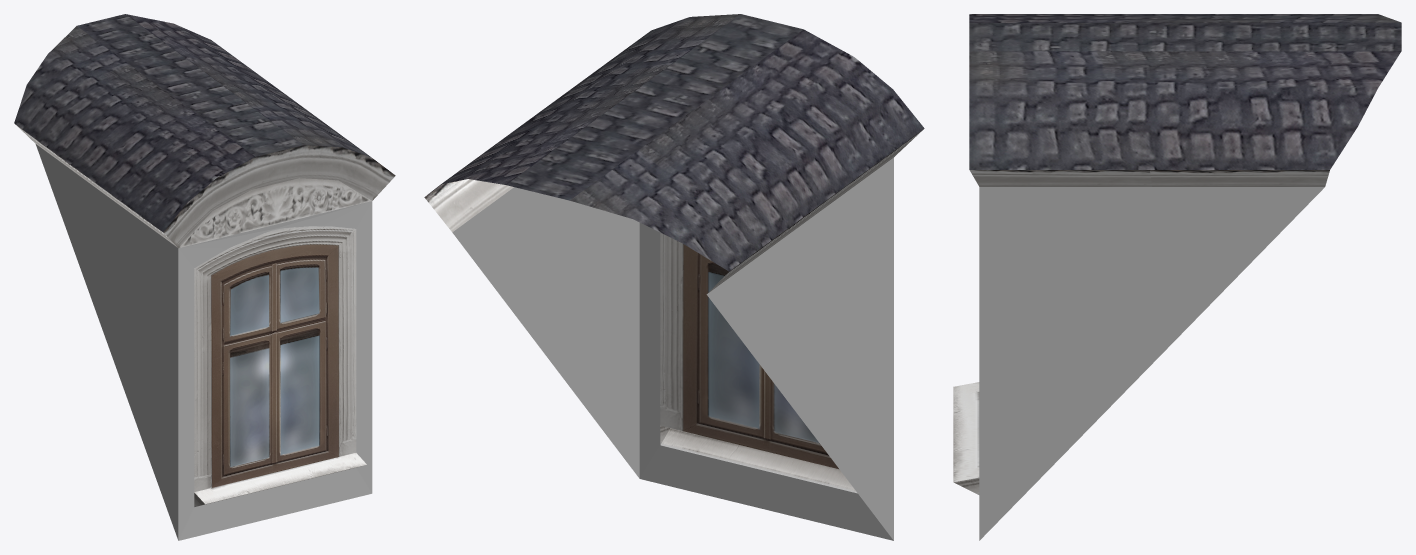
File: RoofWindow2.fbx
3 views of the same model, side by side, from view 1: azimuth 30°, elevation 25°; view 2: azimuth 150°, elevation 25°; view 3: azimuth 270°, elevation 25° (orthographic). The views are drawn at different scales.
Visible parts, largest first — view 1: RoofWindow2; view 2: RoofWindow2; view 3: RoofWindow2.
Boxes of the visible parts, x1=… form: RoofWindow2: x1=14, y1=14, x2=395, y2=540; RoofWindow2: x1=424, y1=14, x2=924, y2=540; RoofWindow2: x1=953, y1=14, x2=1401, y2=540.
Bounding box in the file's own units: 150 × 228 × 207.
